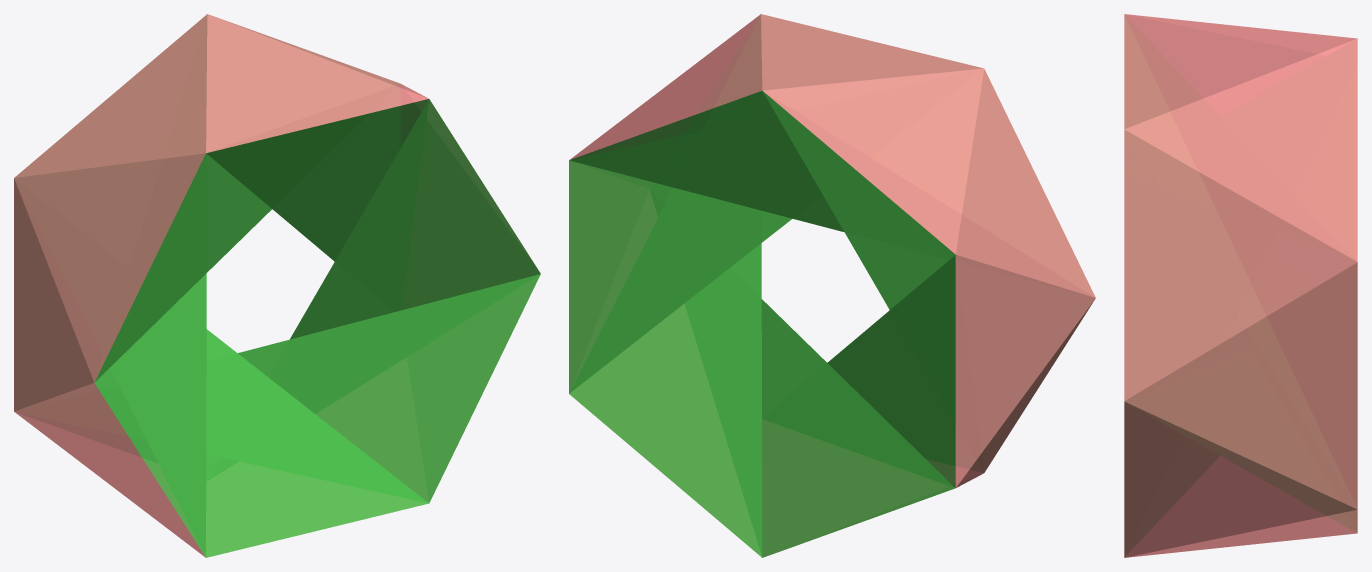
File: AntiHexagonalIrisToroid.obj
3 renders of one model, left to right at view 1: azimuth 30°, elevation 25°; view 2: azimuth 150°, elevation 25°; view 3: azimuth 270°, elevation 25°, orthographic. The views are drawn at different scales.
Size of the model in its own units: 2 by 2 by 0.8556.
